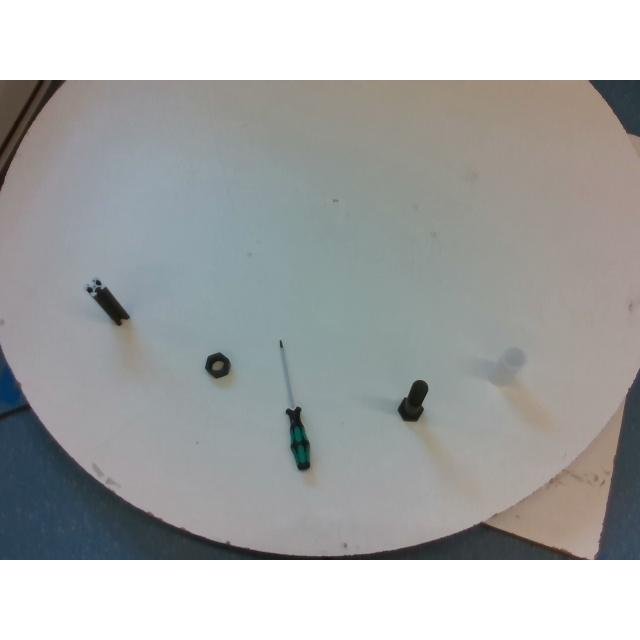F20_20_B: (85, 279, 129, 325)
M20: (206, 353, 230, 377)
M20_100: (398, 380, 428, 420)
Screwdriver: (278, 340, 310, 470)
Spacer: (486, 346, 526, 386)
